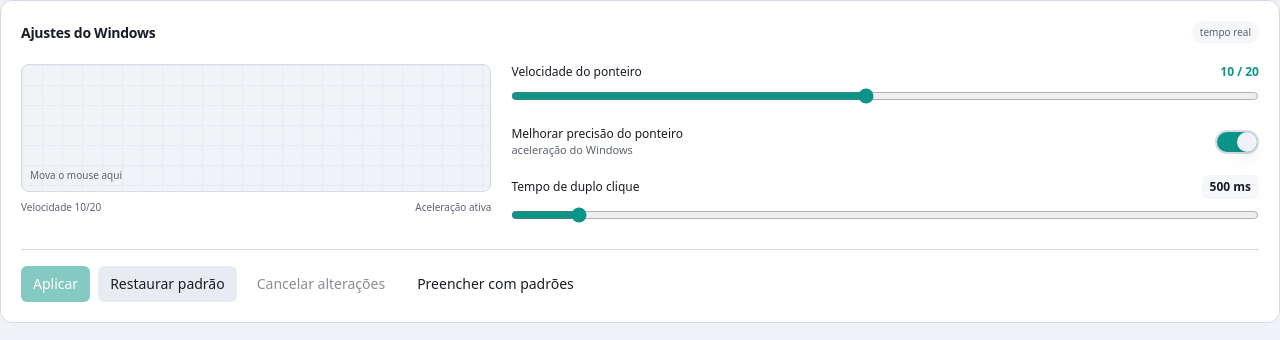
it: MouseSettingsPanel — controles › só habilita Aplicar quando há uma alteração pendente
Expected: the button "Aplicar" is disabled, [21,266,90,302]
Set the slider labelled "Velocidade do ponteiro" to "16". click: coordinates (1097, 96)
box: [511,88,1259,104]
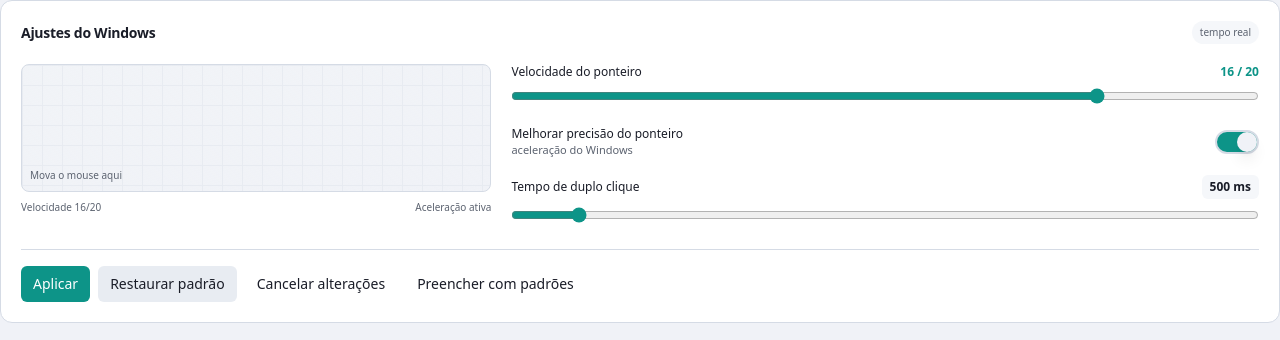
Expected: the button "Aplicar" is enabled, [21,266,90,302]
